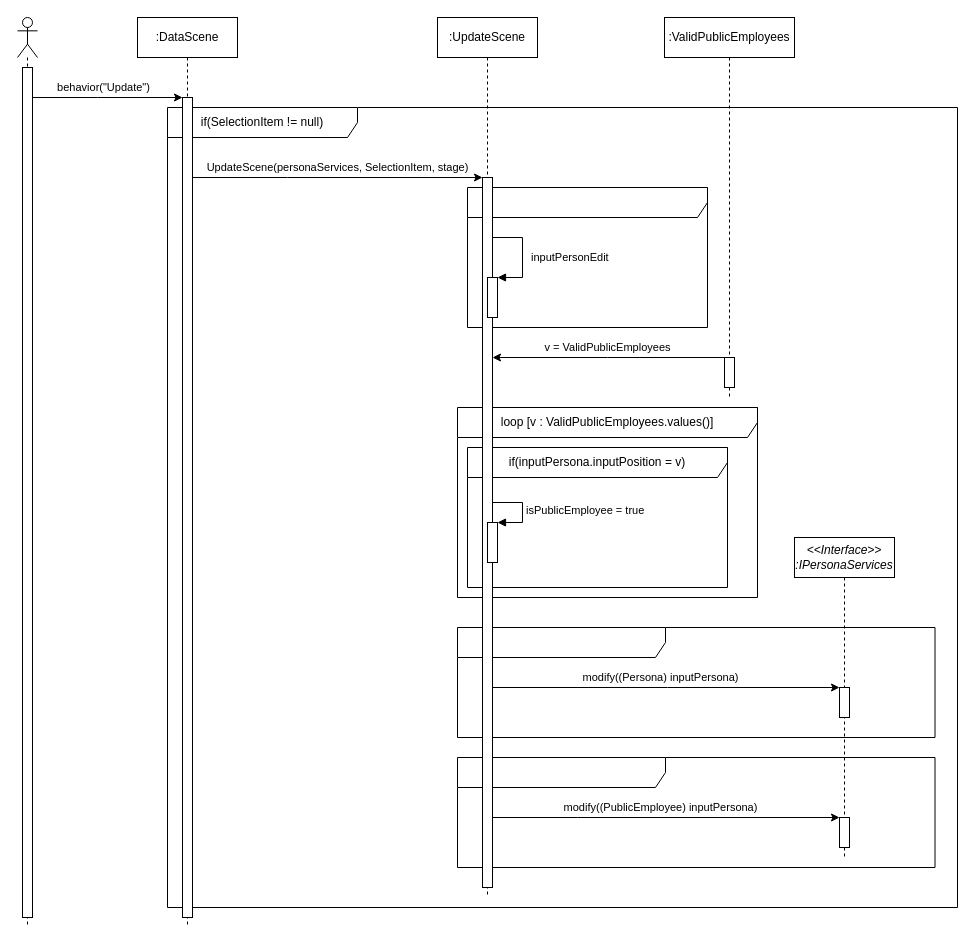
Some shapes in this 975 by 945 pixel diagram are drawn without their labels. Here are the shapes that lost their labels. From the top down, the box of each, then its label:
(466, 186, 708, 328): if(inputPerson != SelectionItem)
(456, 626, 935, 738): if(!isPublicEmployee)
(456, 756, 935, 868): else
